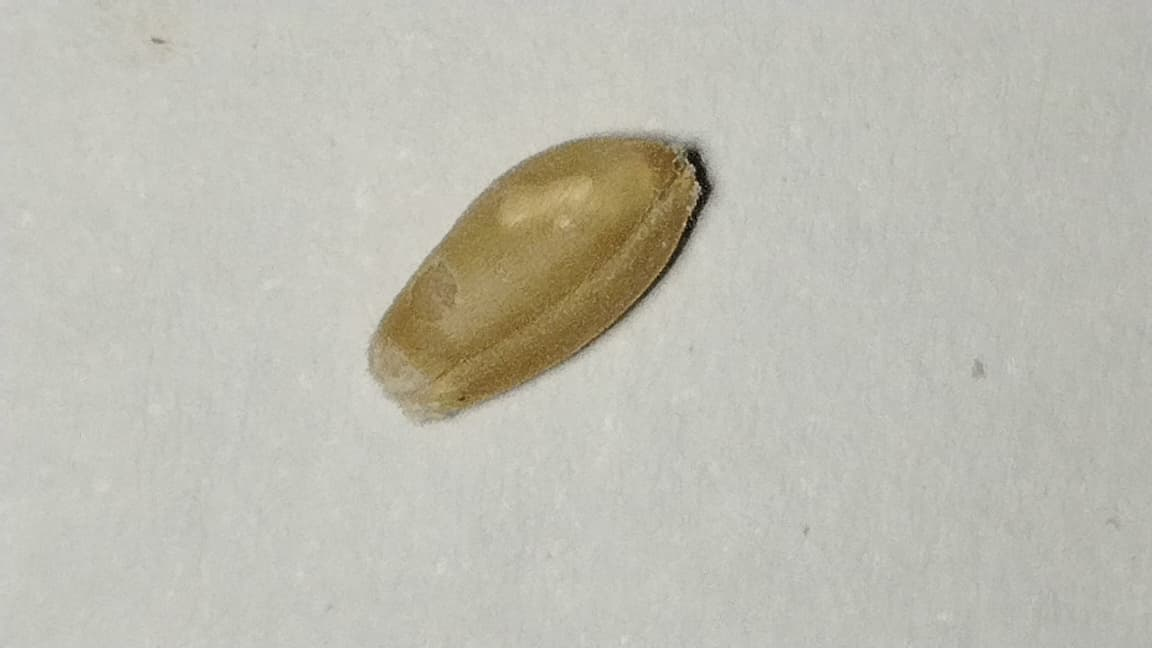damage: (374, 134, 709, 416)
insectdamage: (495, 173, 610, 237), (413, 256, 461, 321)
